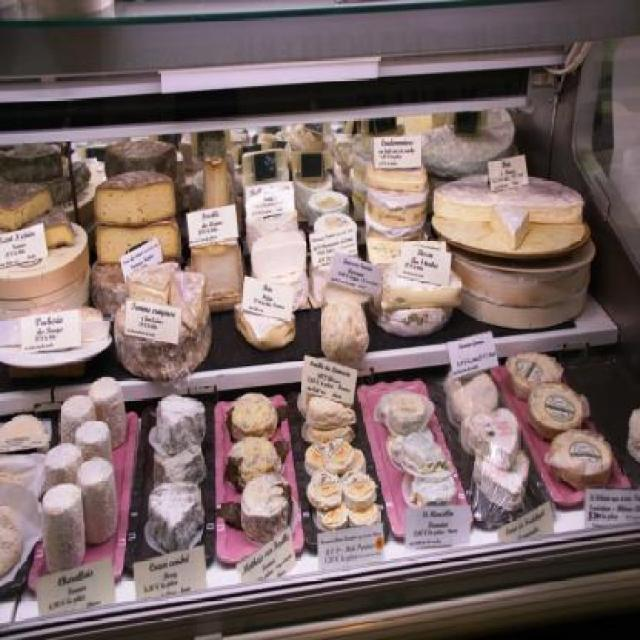Cheese: (0, 122, 614, 580)
